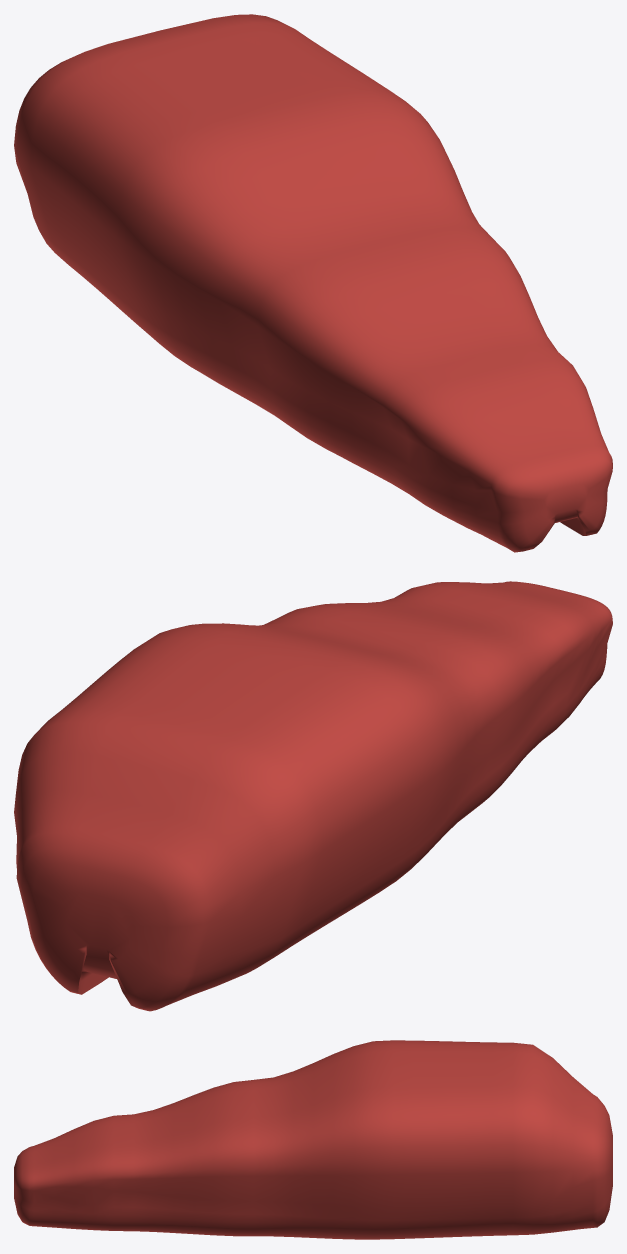
The model's file is race.glb.
3 views of the same model, one above another, from view 1: azimuth 30°, elevation 25°; view 2: azimuth 150°, elevation 25°; view 3: azimuth 270°, elevation 25° (orthographic). The views are drawn at different scales.
Parts seen in each view (by area): view 1: lod0; view 2: lod0; view 3: lod0.
Boxes of the visible parts, box(x1,y1,x2,y2) form: lod0: box(14, 14, 612, 552); lod0: box(14, 581, 612, 1011); lod0: box(14, 1040, 612, 1239).
Size of what is drawn, in the model's own units: 0.3794 by 0.2745 by 1.
